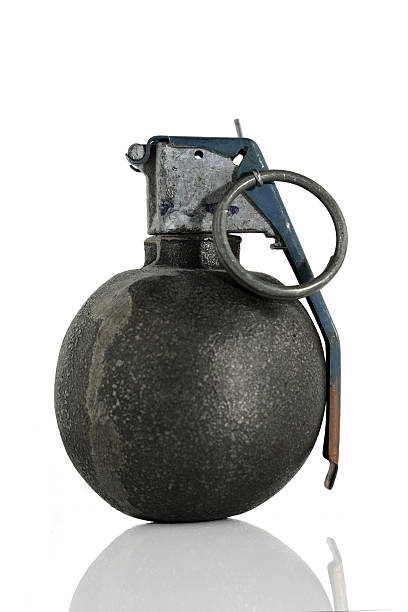e1: (43, 116, 355, 530)
